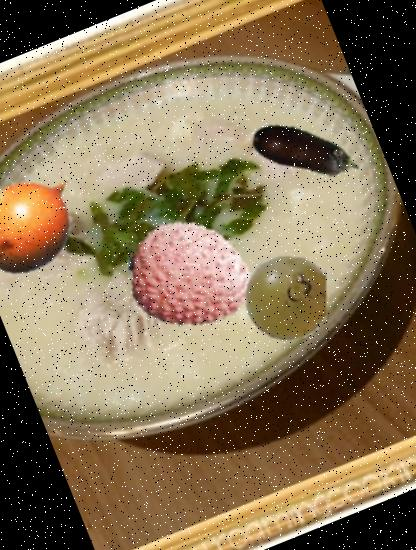Eggplant: (233, 77, 380, 224)
Granadilla: (0, 145, 105, 296)
Grape: (230, 243, 342, 354)
Lychee: (110, 192, 274, 356)
